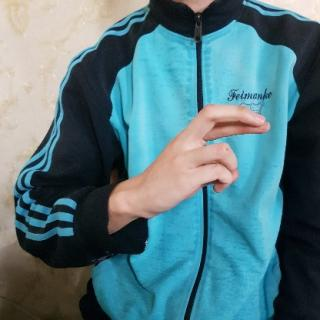ZAY: (133, 101, 275, 223)
